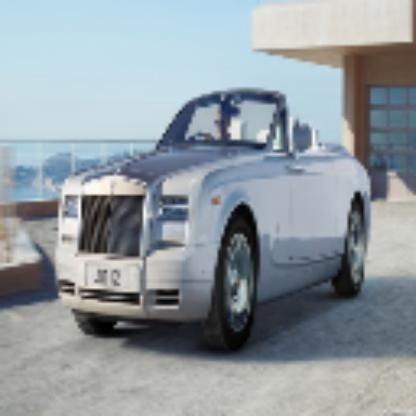Vehicle: (55, 87, 371, 338)
